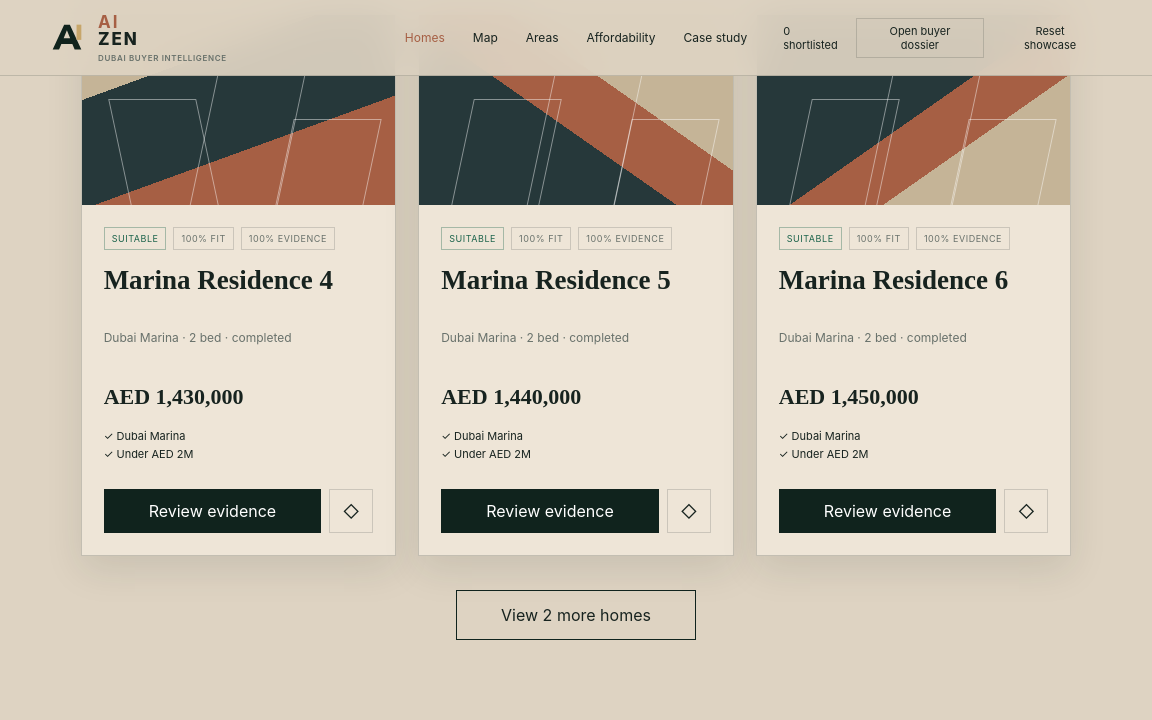
Test case: shows six ranked homes first and reveals the rest on demand
The width and height of the screenshot is (1152, 720).
(page scrolled)
Step 1. Click the button "View 2 more homes" → (576, 615), box [456, 590, 696, 640]
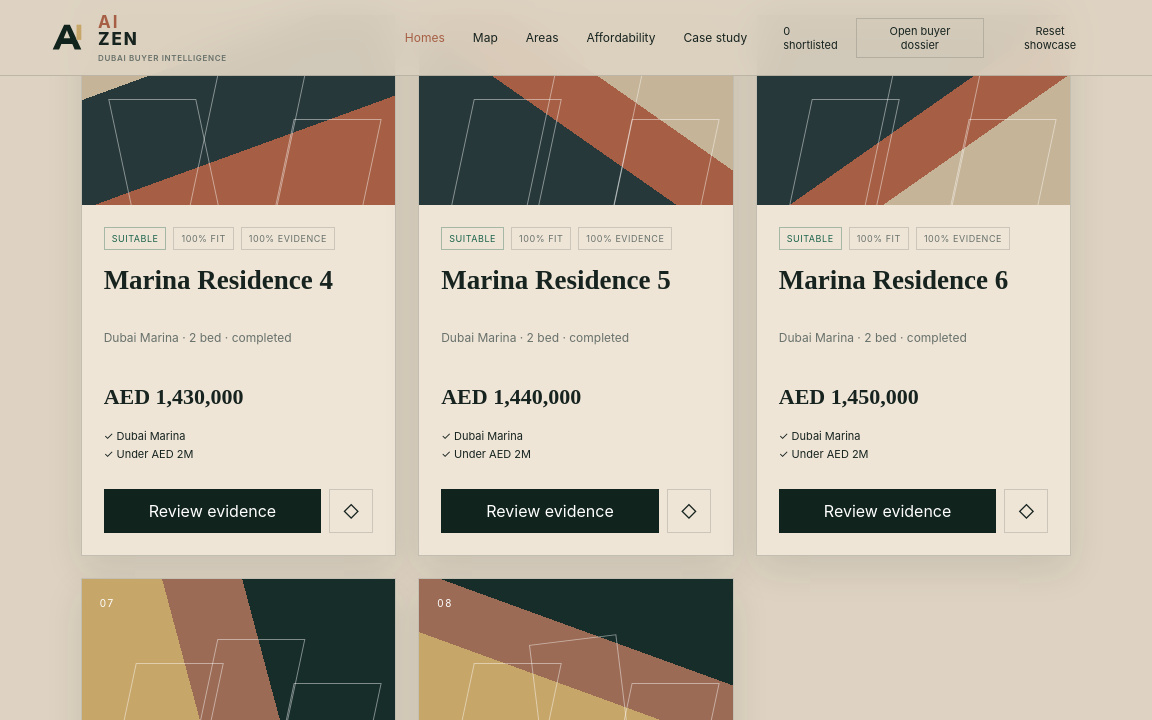
Now the number of elements "Marina Residence" is 8
